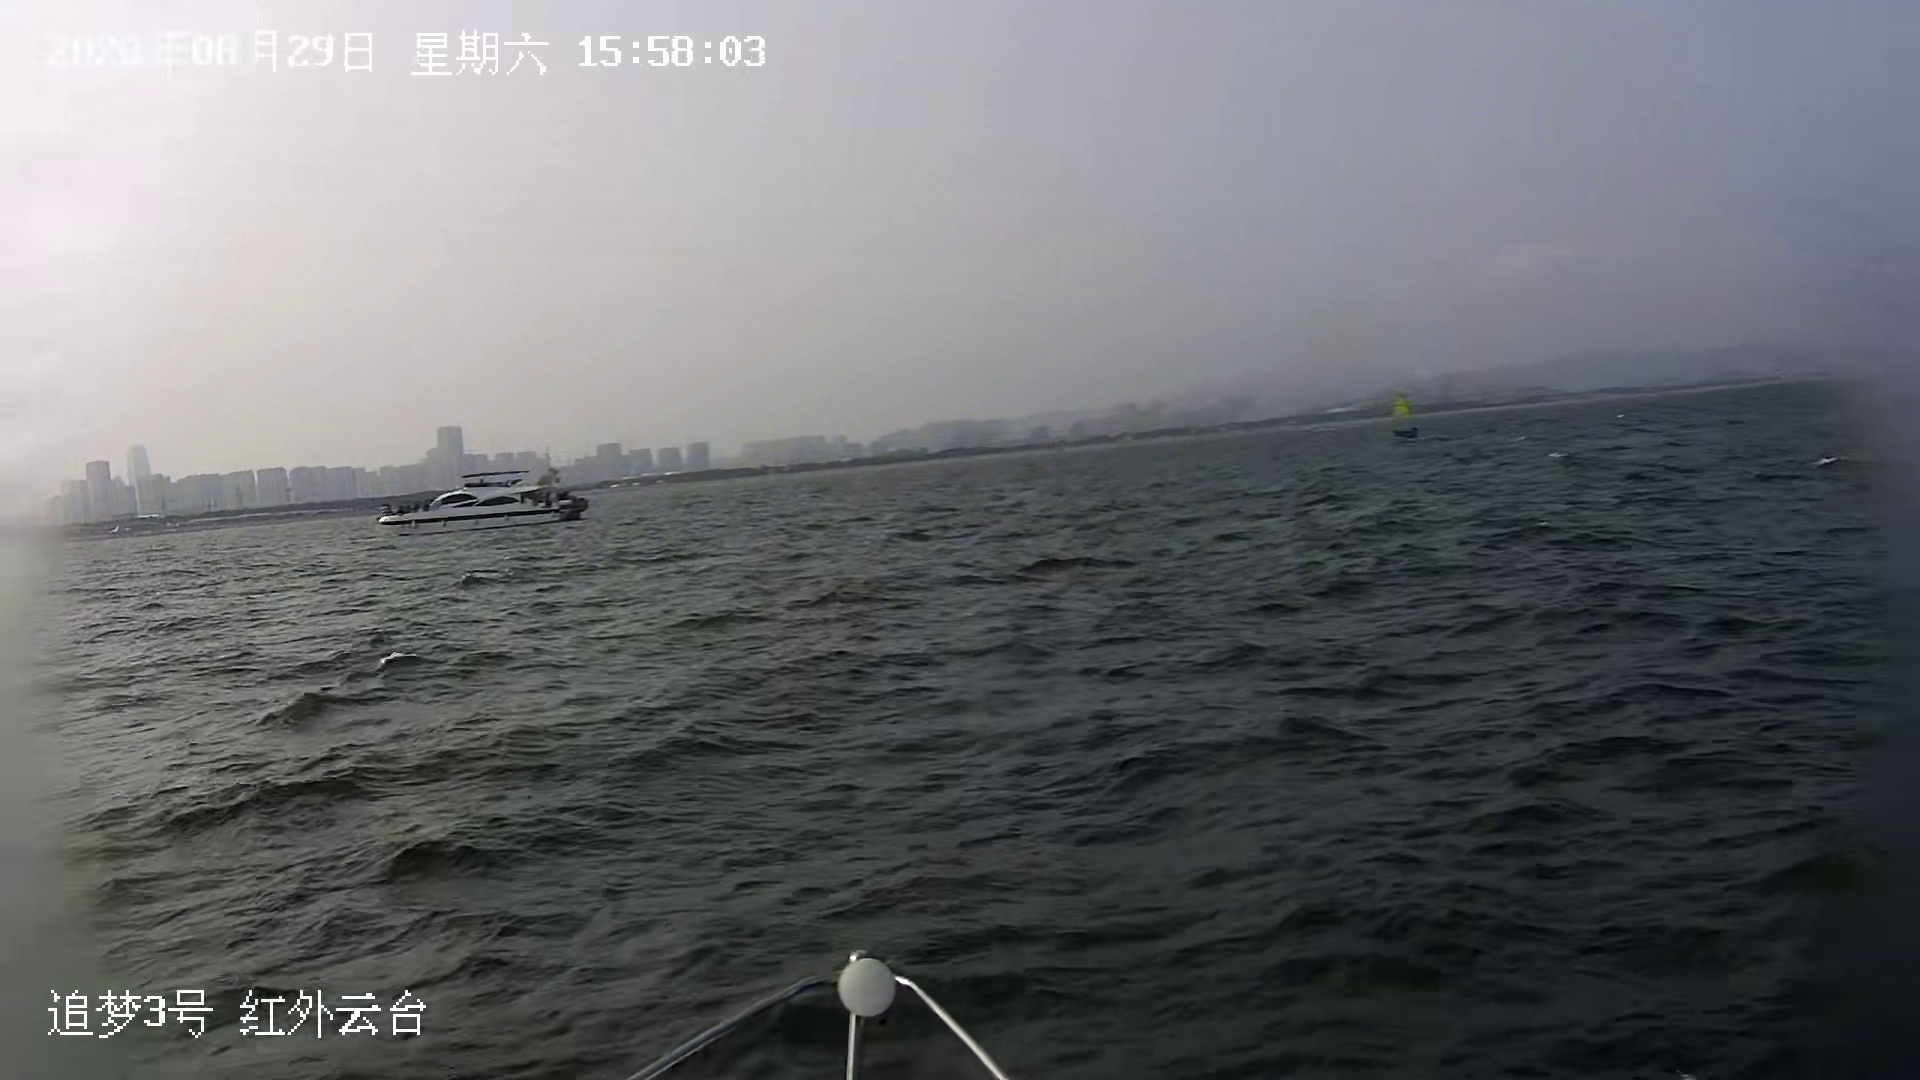barrier: (353, 465, 591, 533), (1389, 394, 1422, 444)
coast: (1, 335, 1920, 542)
